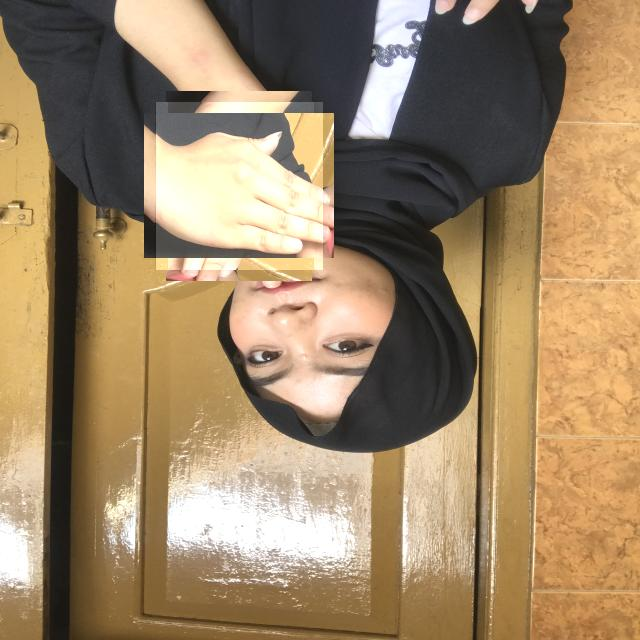ganteng: (154, 102, 322, 270)
